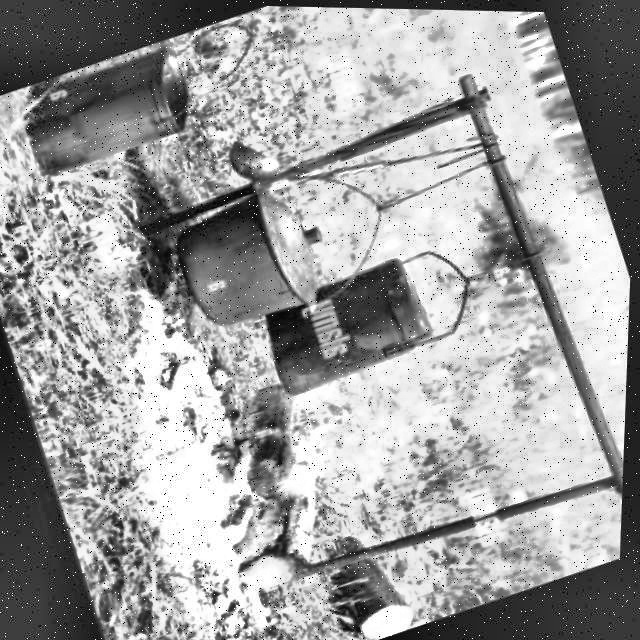Fire: (248, 437, 298, 486)
